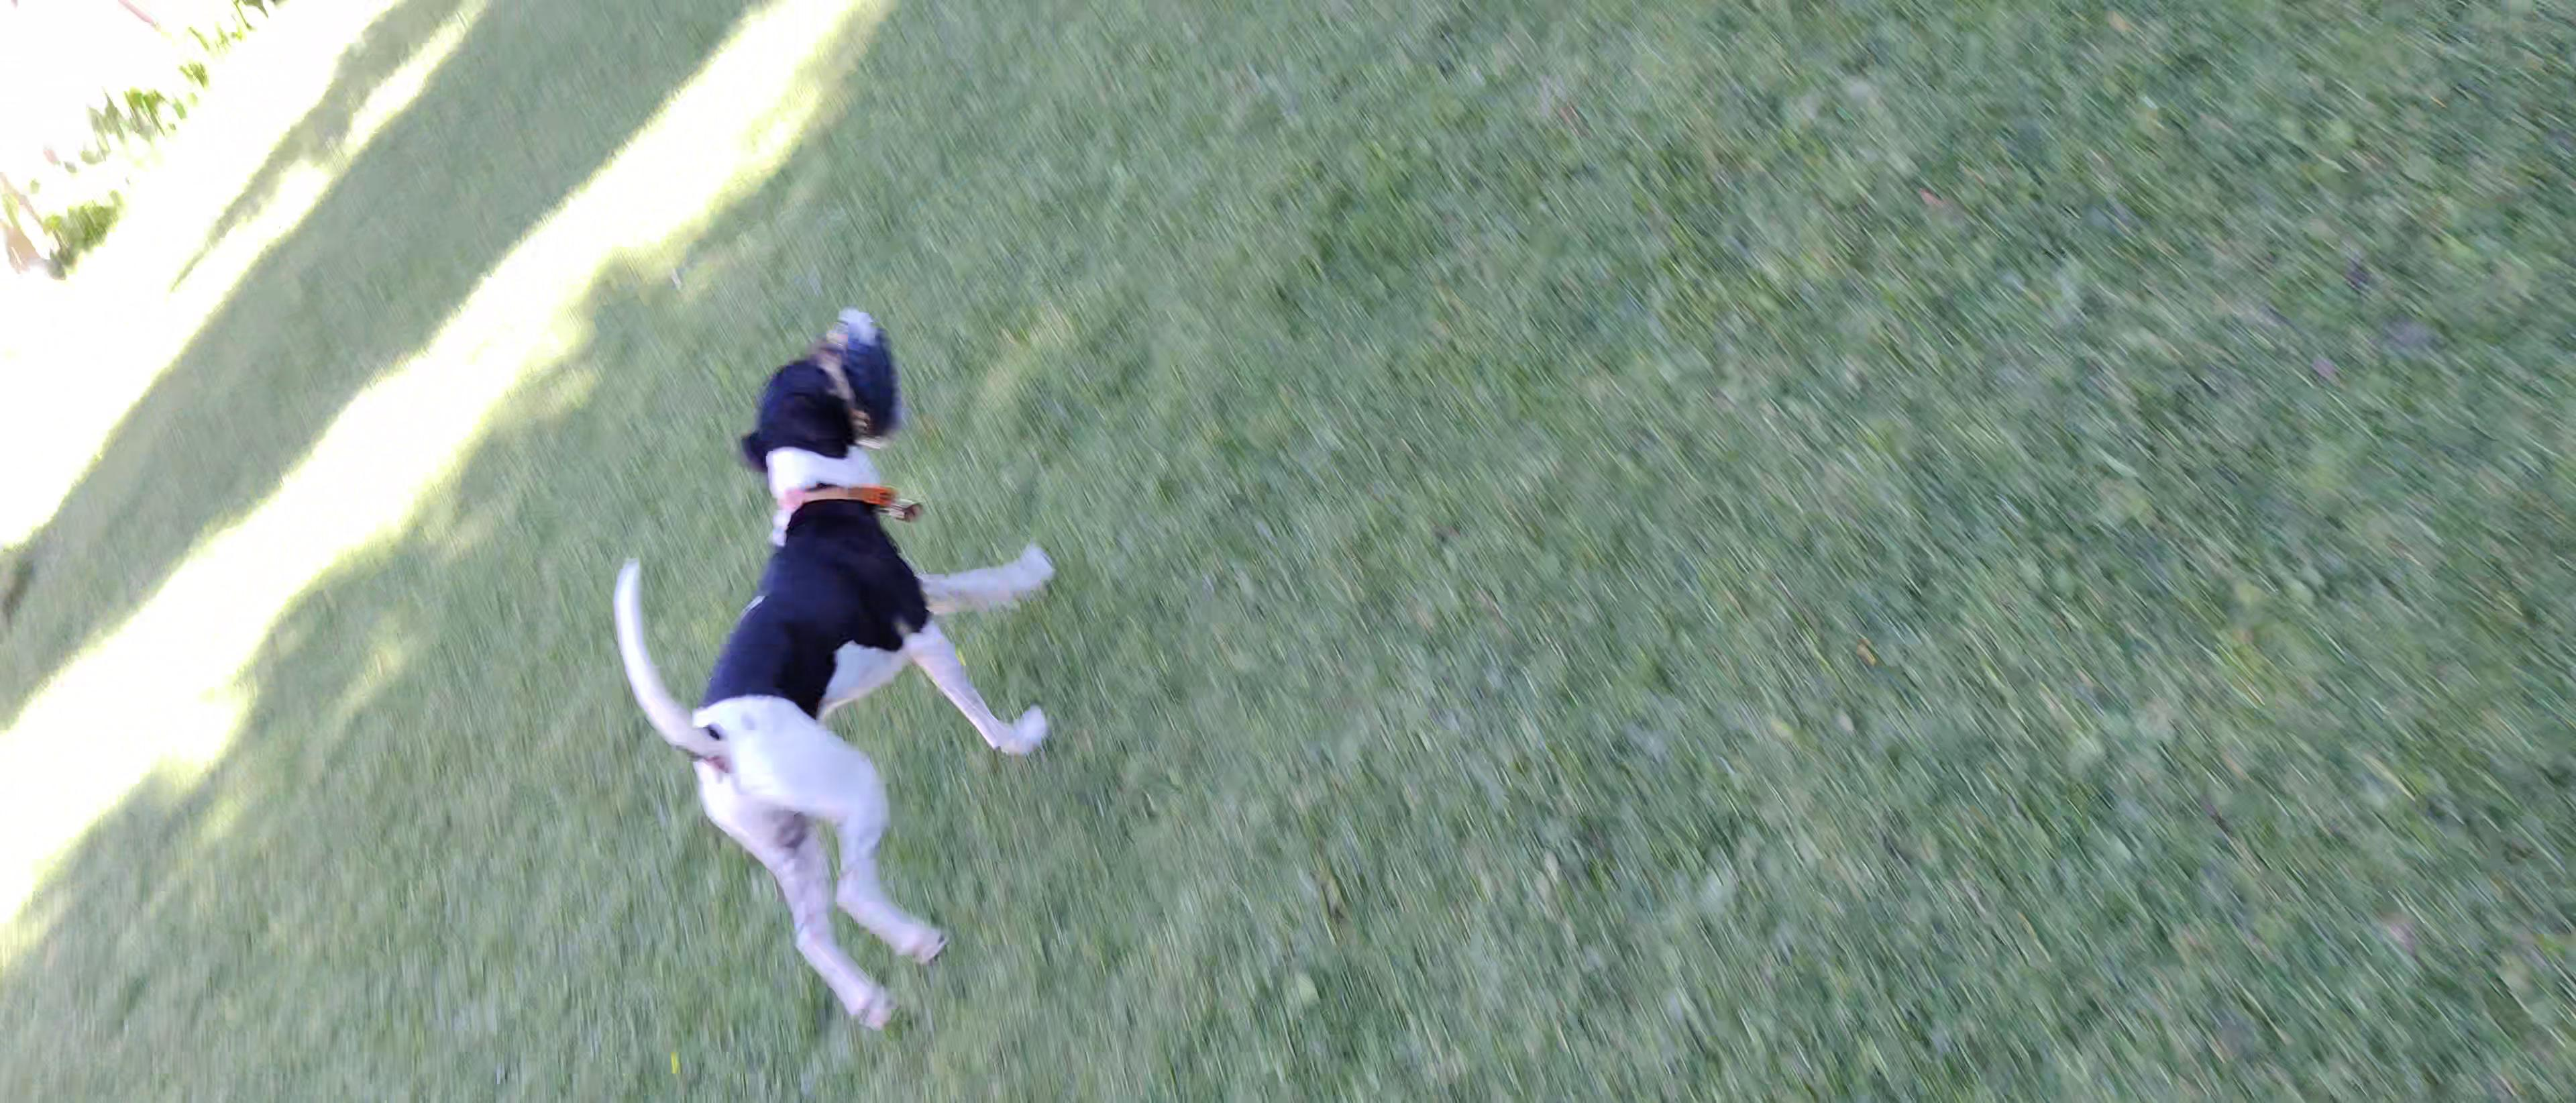Dog: (608, 332, 1065, 1031)
